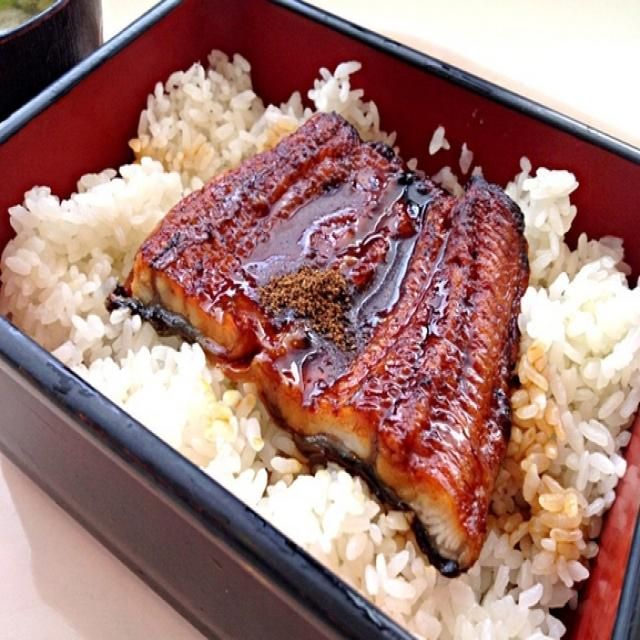熟制海鲜: (20, 15, 633, 631)
